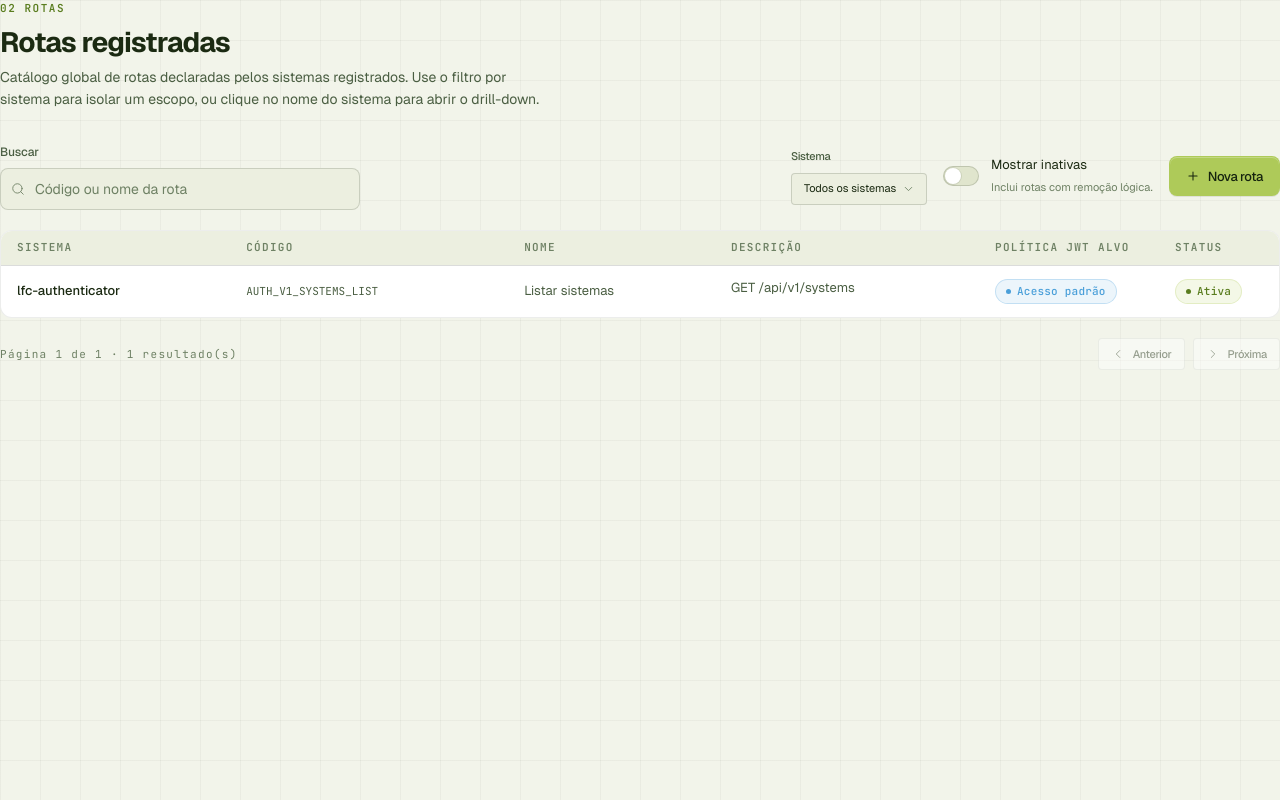
RoutesGlobalListShellPage — botão "Nova rota" (Issue #187) › abertura do modal e dropdown de sistema › clicar em "Nova rota" abre o diálogo com dropdown de sistema visível
This screenshot has width=1280, height=800.
Click the button with test id "routes-global-create-open" at (1224, 176), box [1169,156,1279,196]
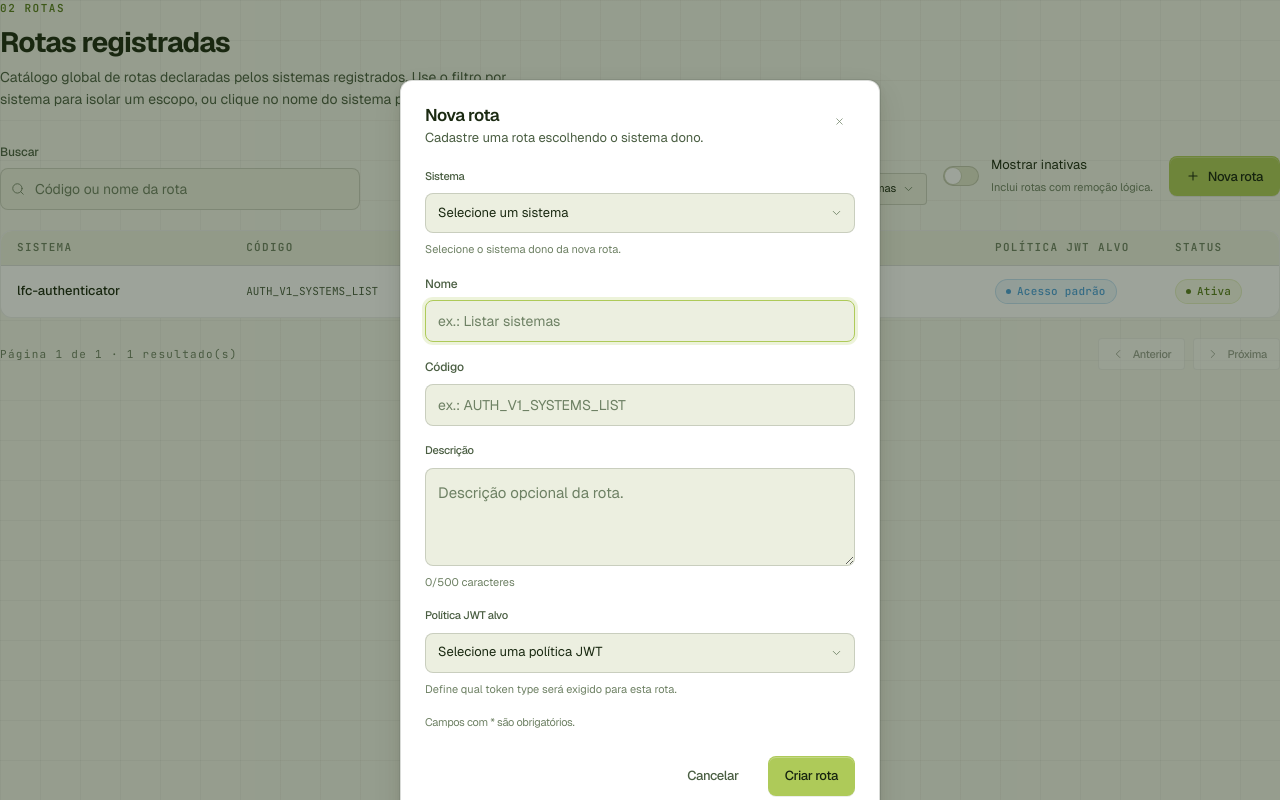
Check: the form with test id "new-route-form" is shown, box [425,168,855,796]
Check: the dropdown with test id "new-route-system-id" is enabled, box [425,193,855,233]
Check: the dropdown with test id "new-route-system-token-type-id" is enabled, box [425,633,855,673]
